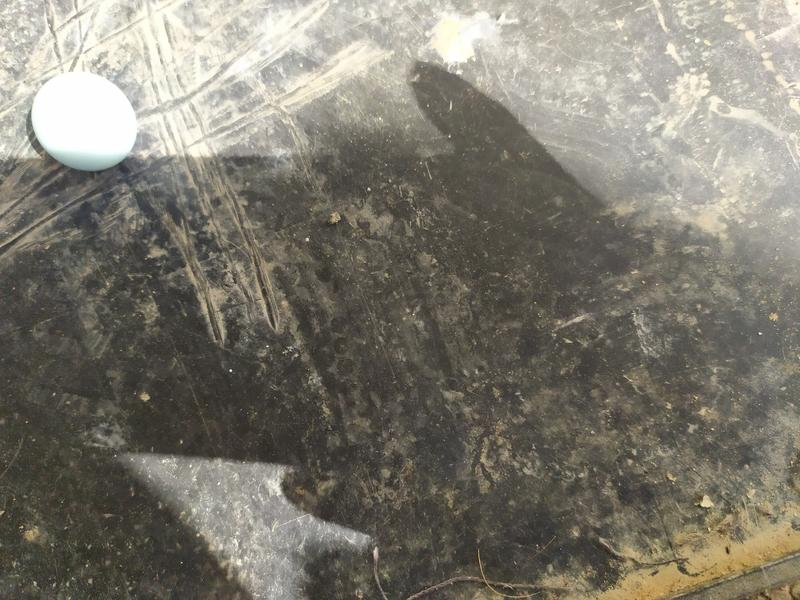Warning: (28, 68, 141, 175)
